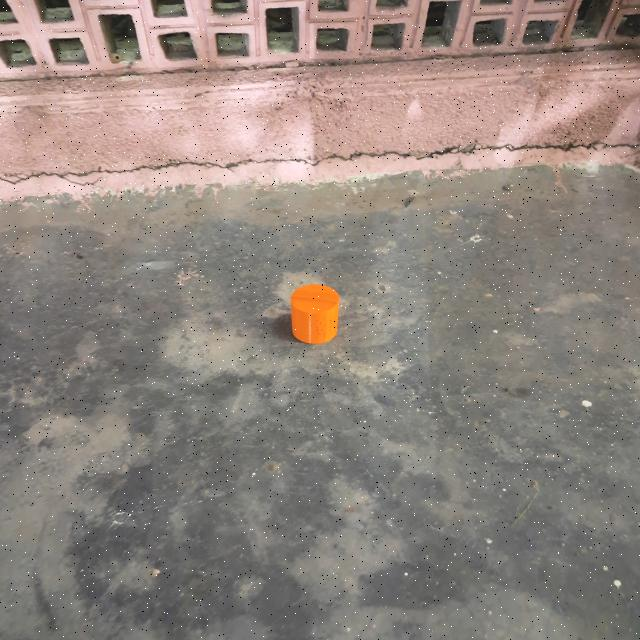Cylinder: (290, 283, 341, 344)
